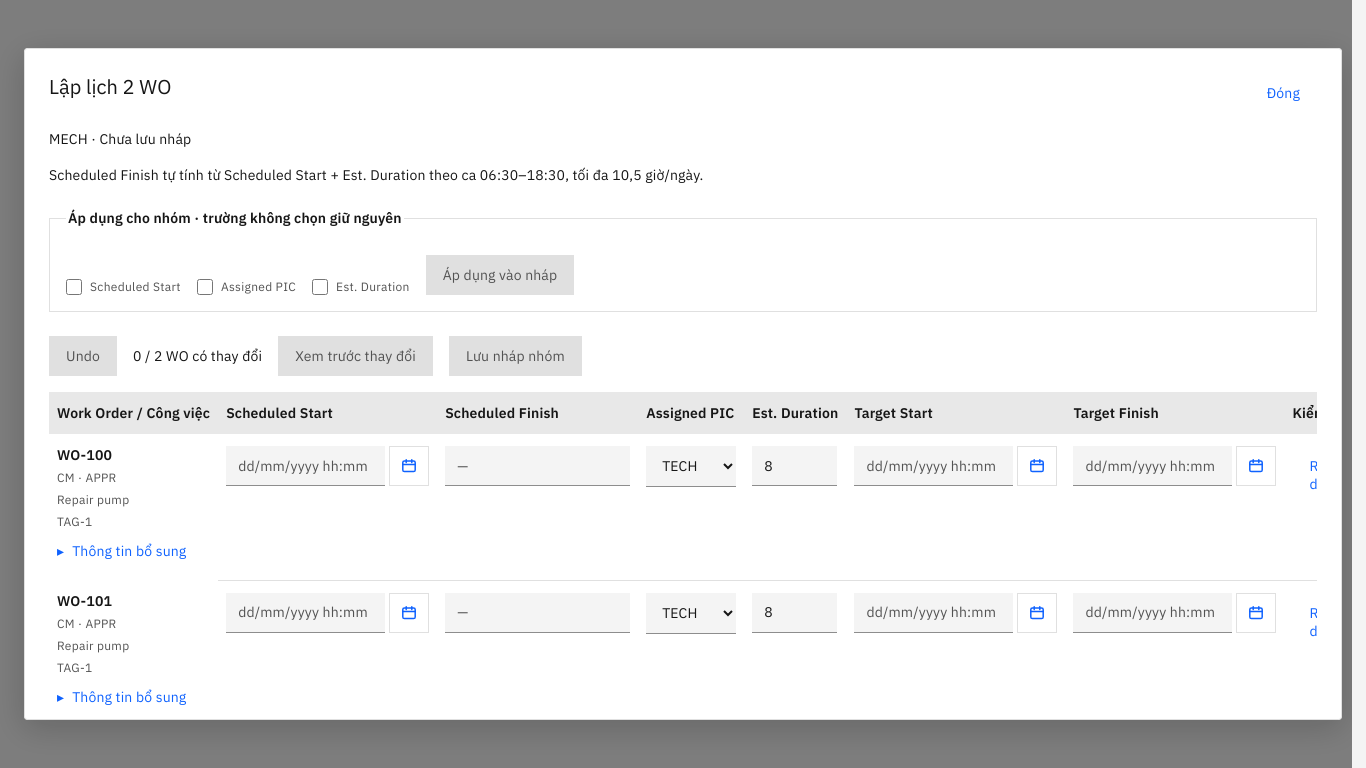
Test: shows only supplemental facts with timezone-aware dates outside the editable row
The image size is (1366, 768).
Click the button with aria-label "Thông tin WO-100": {"x": 122, "y": 551} [57, 534, 186, 568]
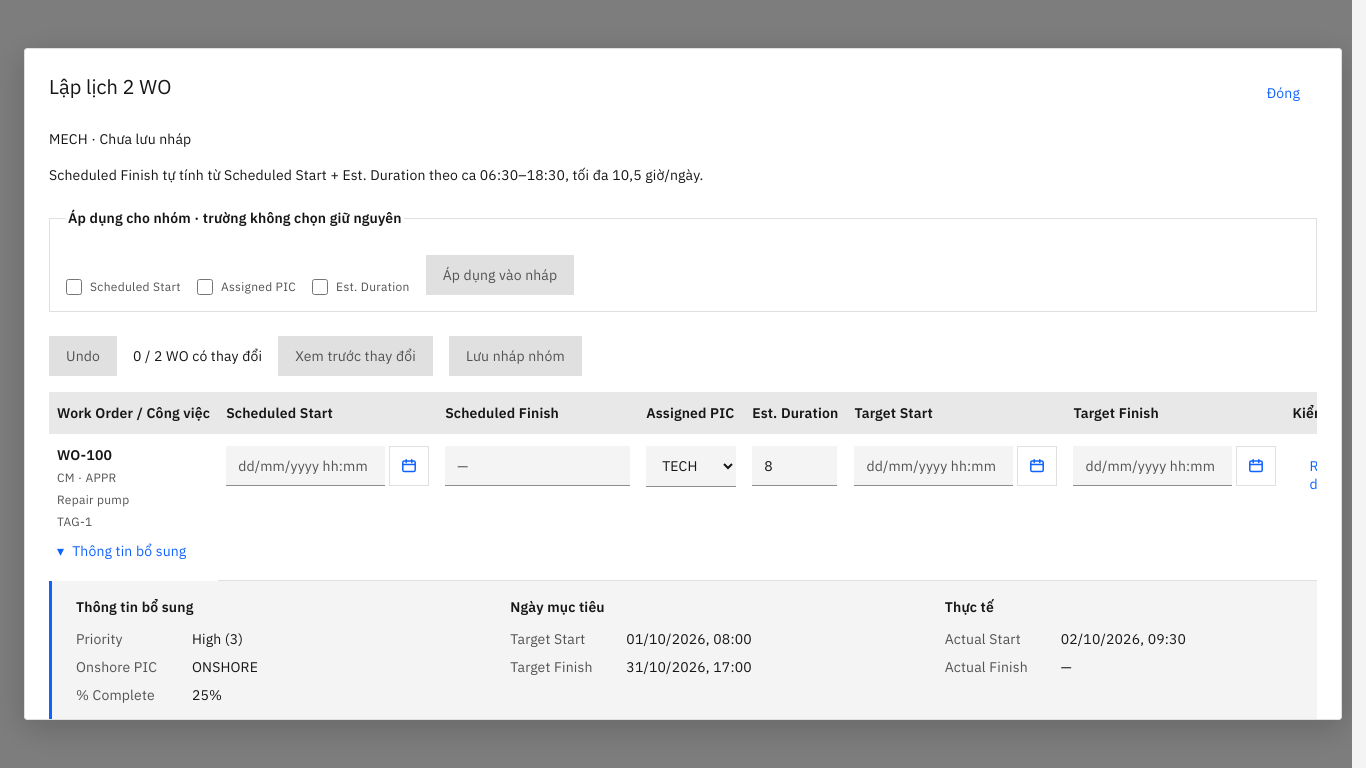
expect the text "High (3)" is shown: met, box [192, 630, 243, 648]
expect the text "ONSHORE" is shown: met, box [192, 658, 258, 676]
expect the text "25%" is shown: met, box [192, 686, 222, 704]
